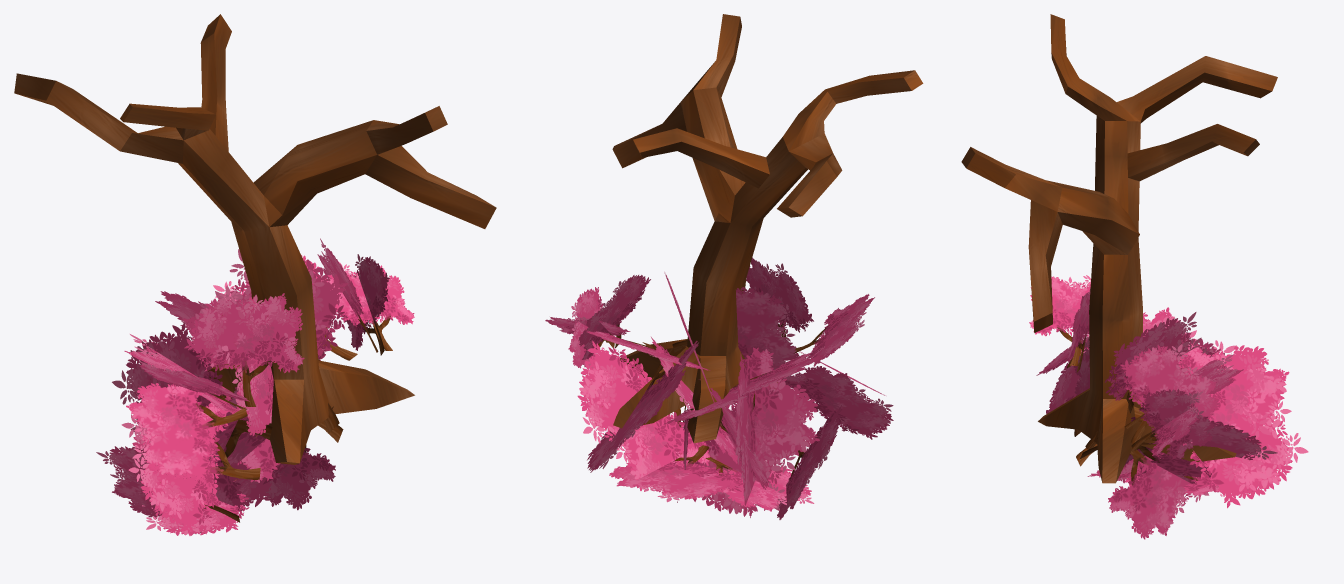
The model's file is Cherry Blossom Tree.fbx.
The picture shows the model from 3 angles, left to right: view 1: azimuth 30°, elevation 25°; view 2: azimuth 150°, elevation 25°; view 3: azimuth 270°, elevation 25°; orthographic projection. The views are drawn at different scales.
Visible parts, largest first — view 1: Plane.001, Cube.001; view 2: Plane.001, Cube.001; view 3: Cube.001, Plane.001.
Part boxes in pixels (x1,y1,x2,y2): Plane.001: (96, 238, 414, 535); Cube.001: (14, 14, 496, 464); Plane.001: (545, 257, 893, 519); Cube.001: (612, 14, 923, 443); Cube.001: (961, 14, 1277, 483); Plane.001: (1029, 275, 1308, 539).
Bounding box in the file's own units: 526 × 726 × 510.
